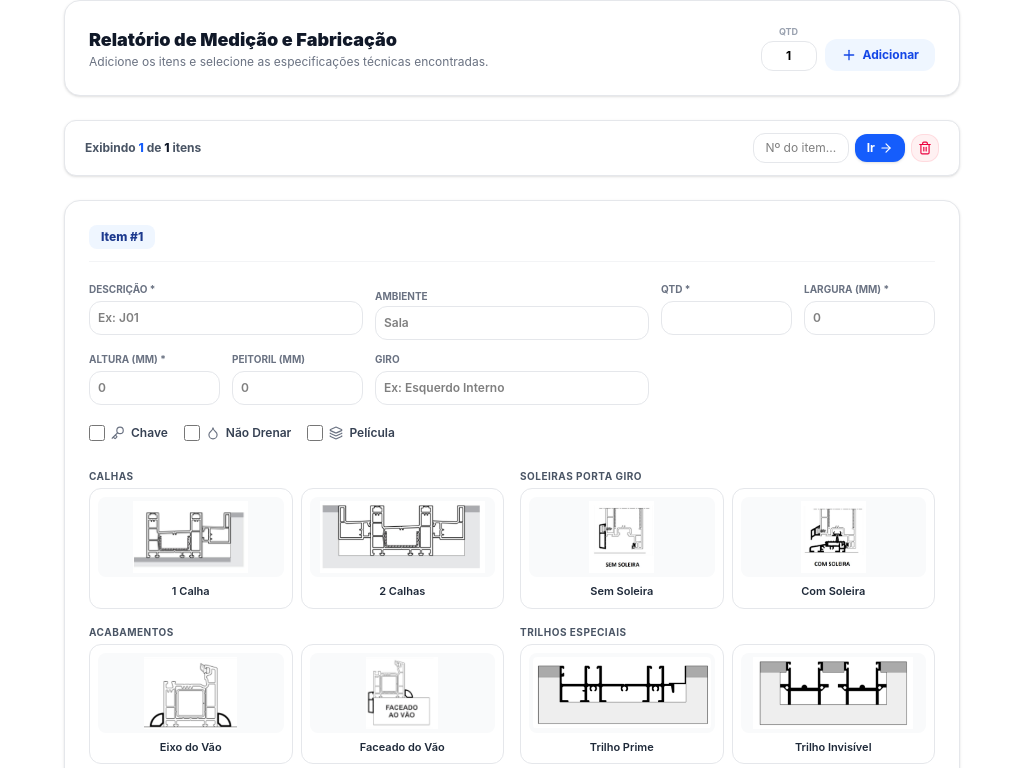
Test: Exclusão de item com confirmação de Modal › deve abrir o modal ao solicitar remoção e remover o item após confirmar
The image size is (1024, 768).
Click the button "Adicionar" at (880,55), box [824,39,935,71]
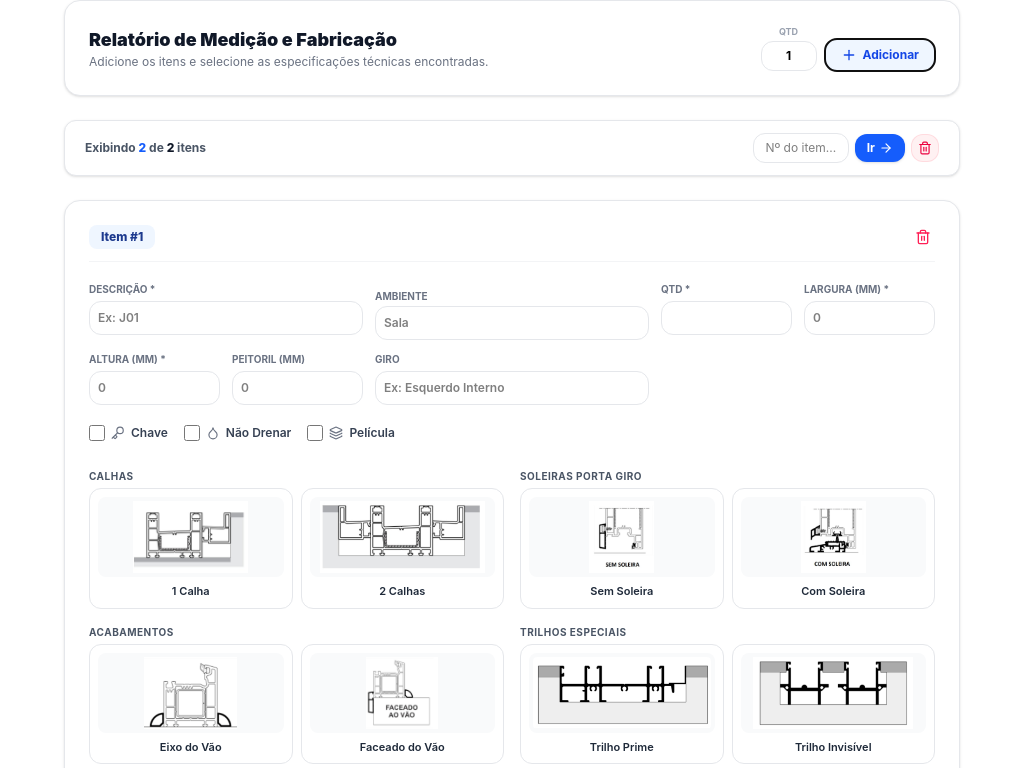
Now the element with test id "contador-itens" reads "Exibindo 2 de 2 itens", box [85,140,206,156]
Type "2" into the field with placeholder "Nº do item..." at (801,148), box [753,133,849,163]
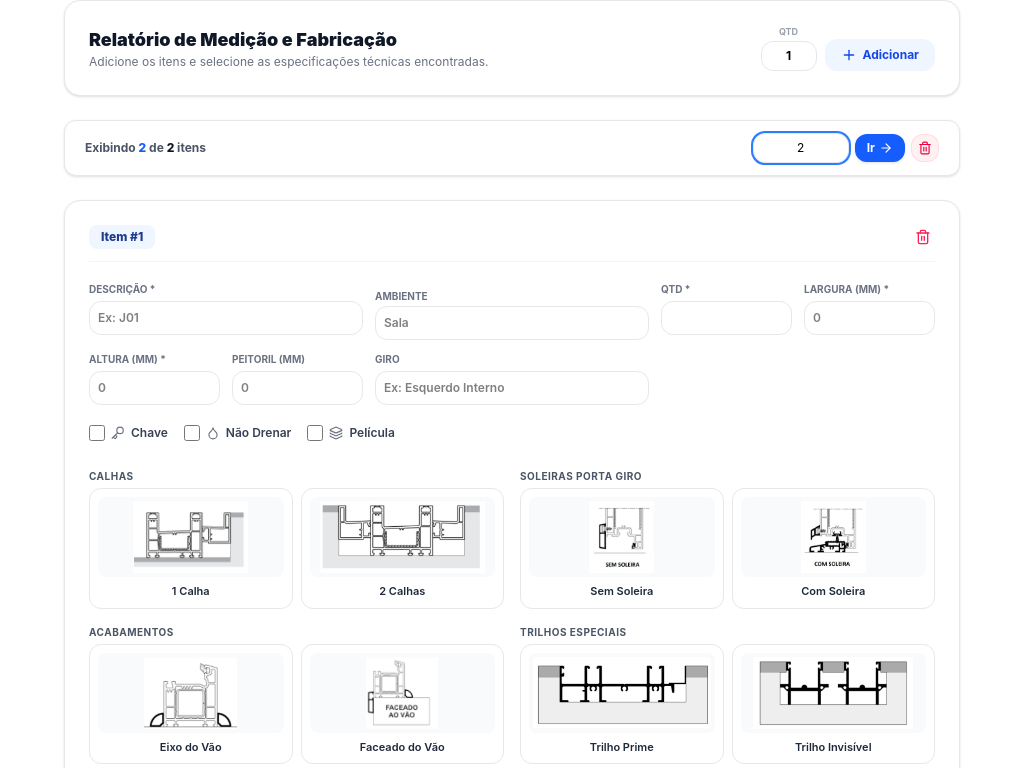
Click the button titled "remover este item pelo número" at (925,148), box [911,134,939,162]
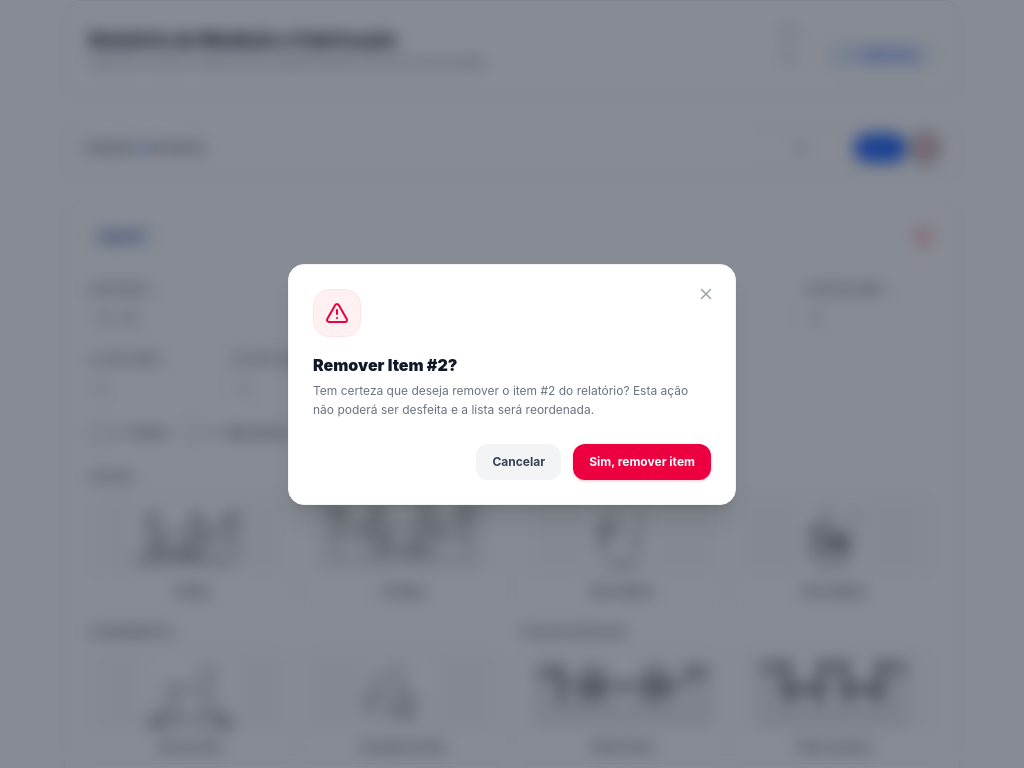
Now the heading "Remover Item #2?" is shown, box [313,354,457,374]
Now the text "esta ação não poderá ser desfeita" is shown, box [313,382,688,417]
Click the button "Sim, remover item" at (642,462), box [573,444,711,480]
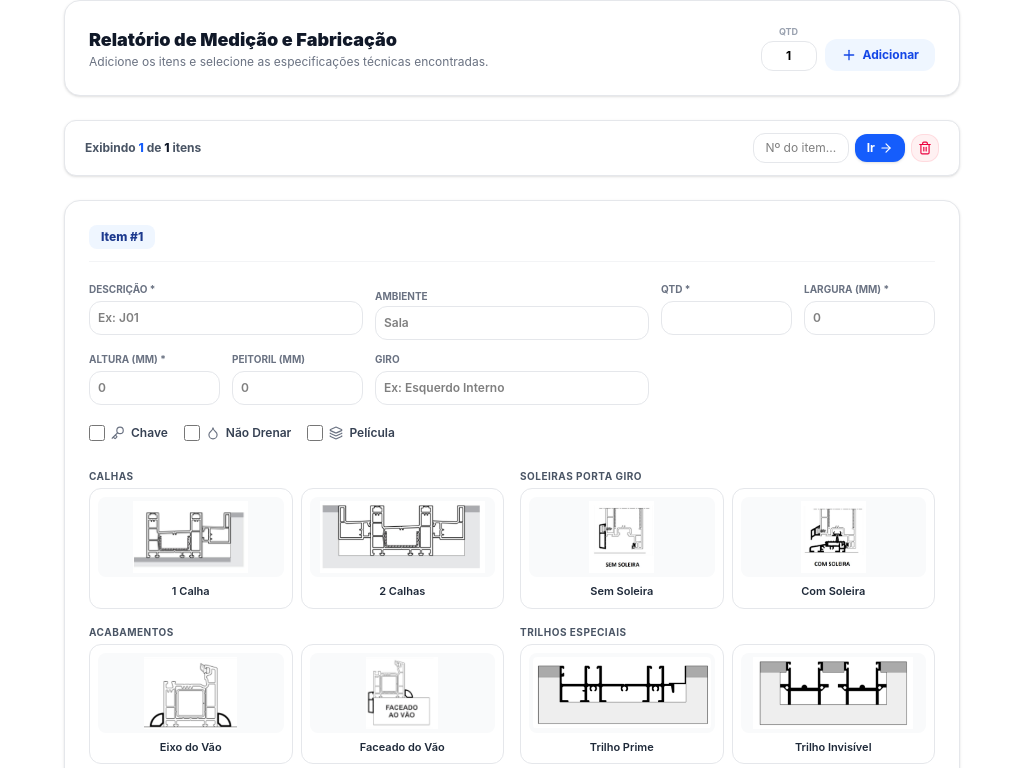
Now the heading "Remover Item #2?" is gone
Now the element with test id "contador-itens" reads "Exibindo 1 de 1 itens", box [85,140,201,156]
